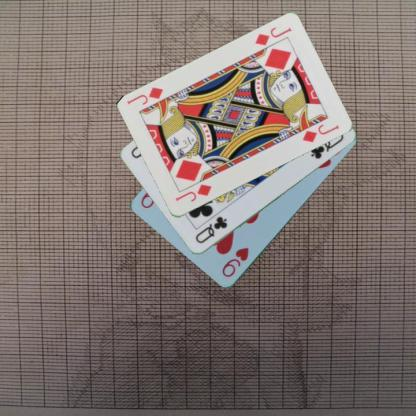9h: (219, 245, 250, 279)
Jd: (172, 182, 213, 204), (252, 25, 292, 47)
Qc: (192, 214, 229, 245)
